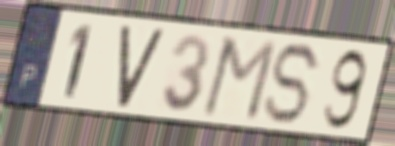1: (64, 22, 93, 99)
3: (161, 31, 213, 114)
9: (321, 48, 369, 131)
M: (198, 34, 280, 124)
S: (260, 39, 327, 126)
V: (115, 24, 168, 110)
